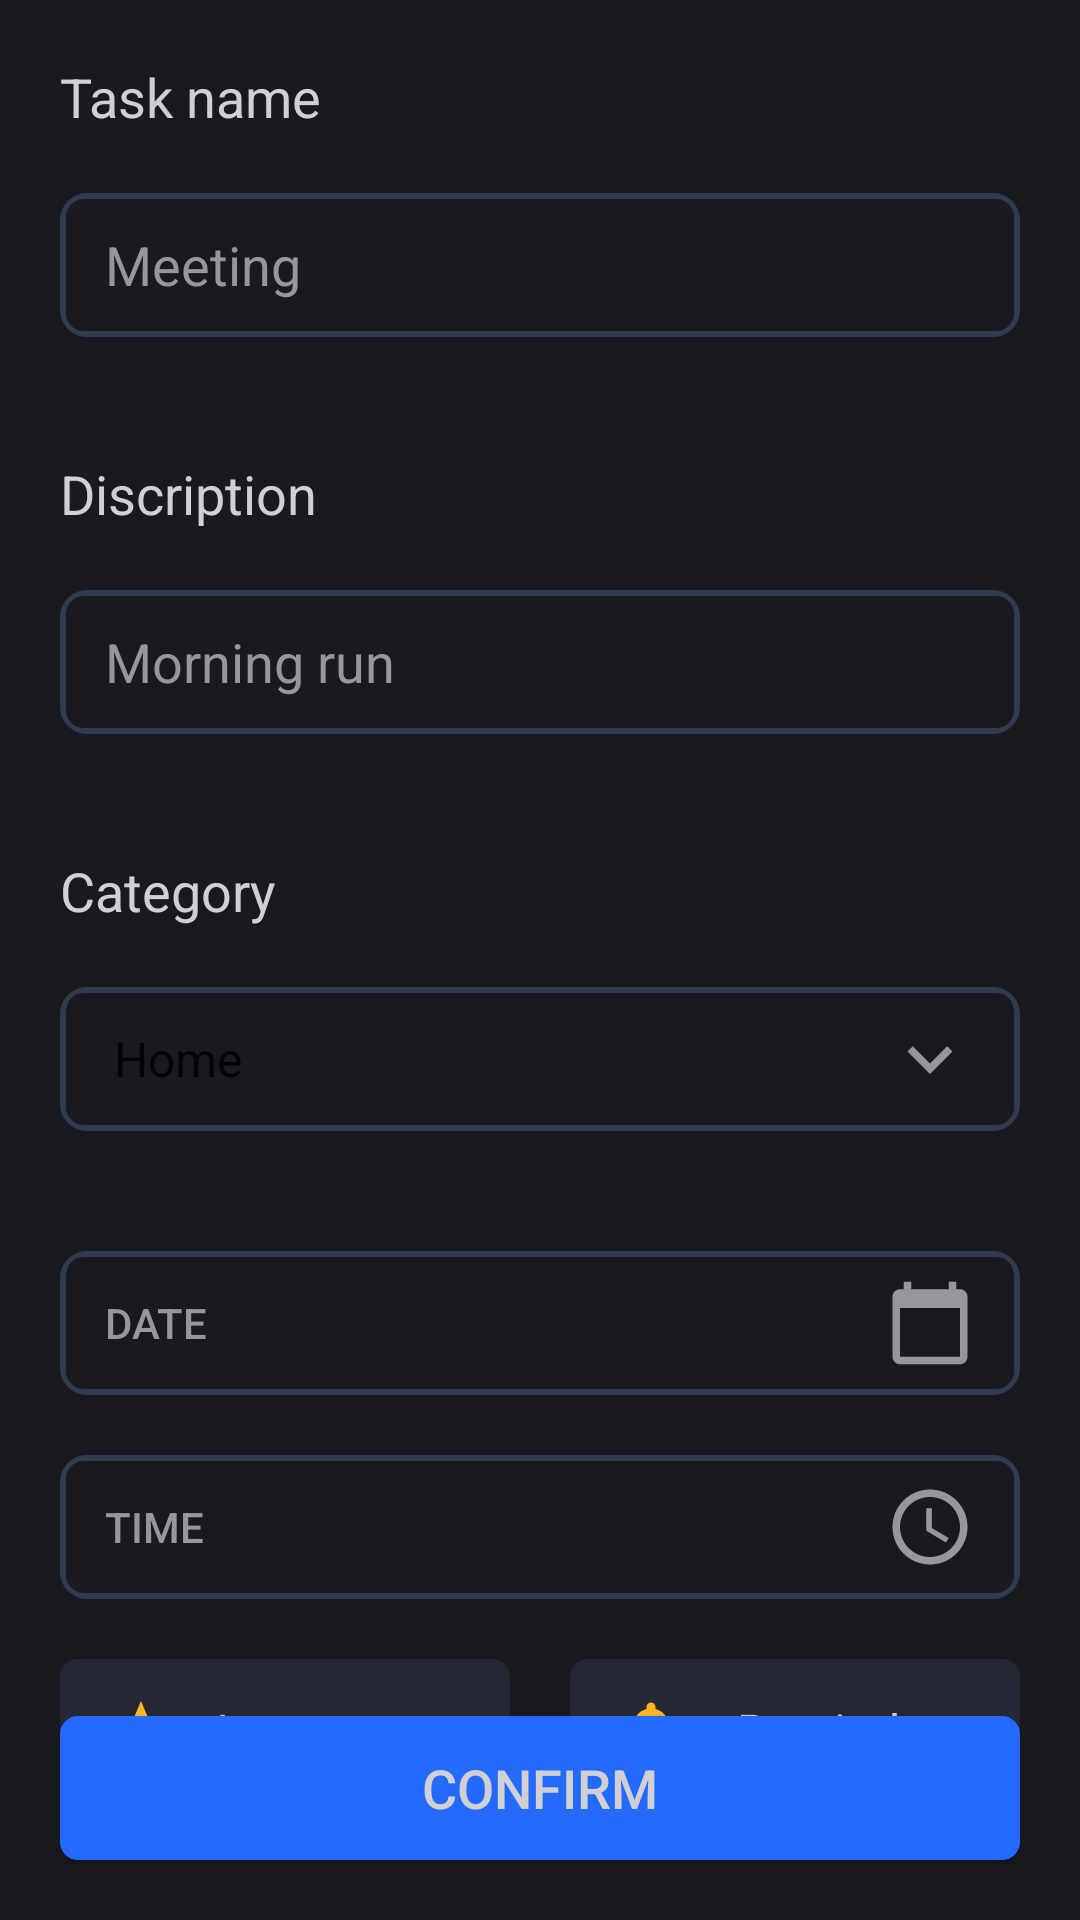

Screen size 1080 x 1920. Icon name, then its box in pixels as bbox(x1, y1, x2, y2):
calendar today: bbox(892, 1281, 968, 1365)
keyboard arrow down: bbox(907, 1046, 953, 1074)
